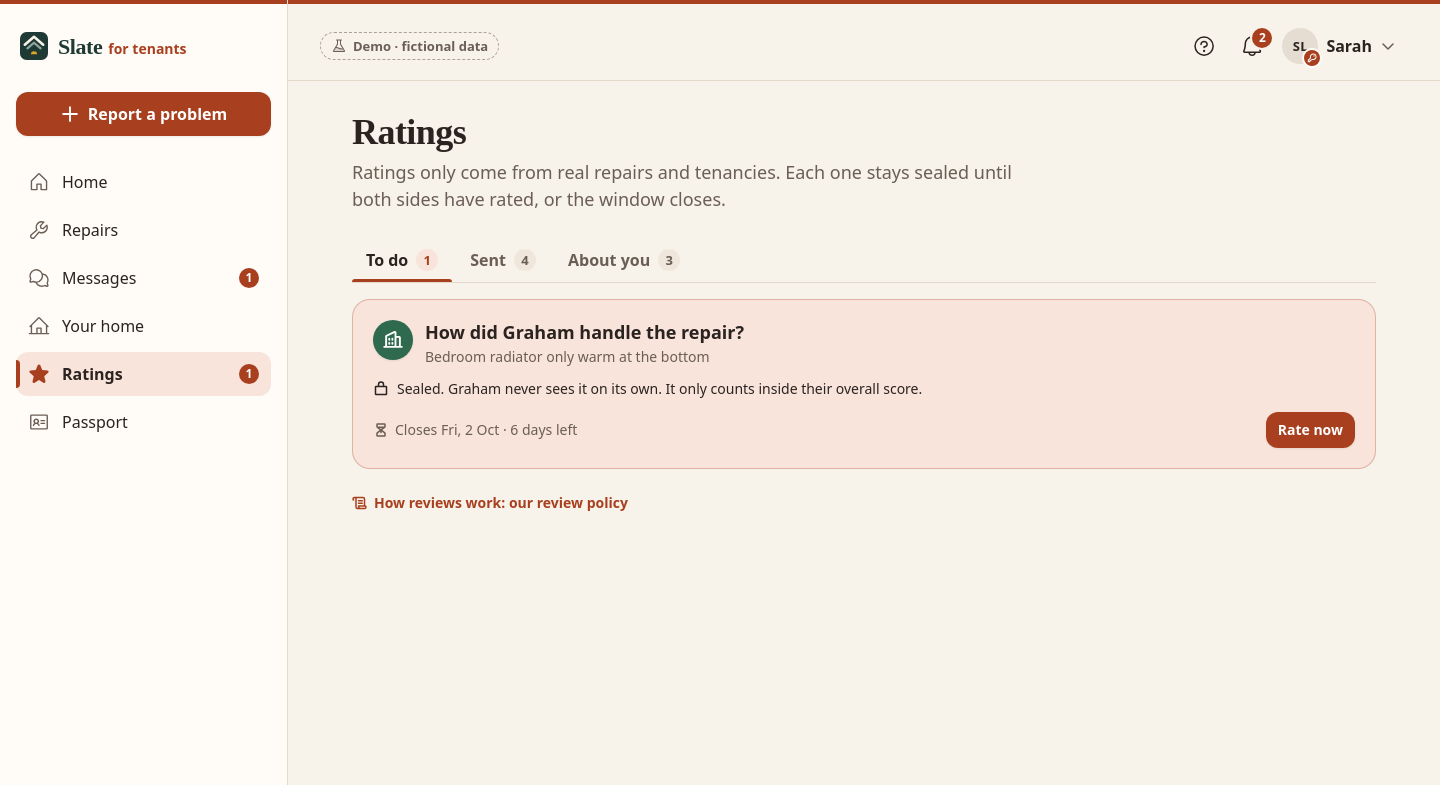
it: the ratings page › shows sealed ratings with their reveal date, and explains who sees ratings about you
This screenshot has width=1440, height=785.
Click the tab "Sent 4": (503, 260) 456,238 -> 550,282
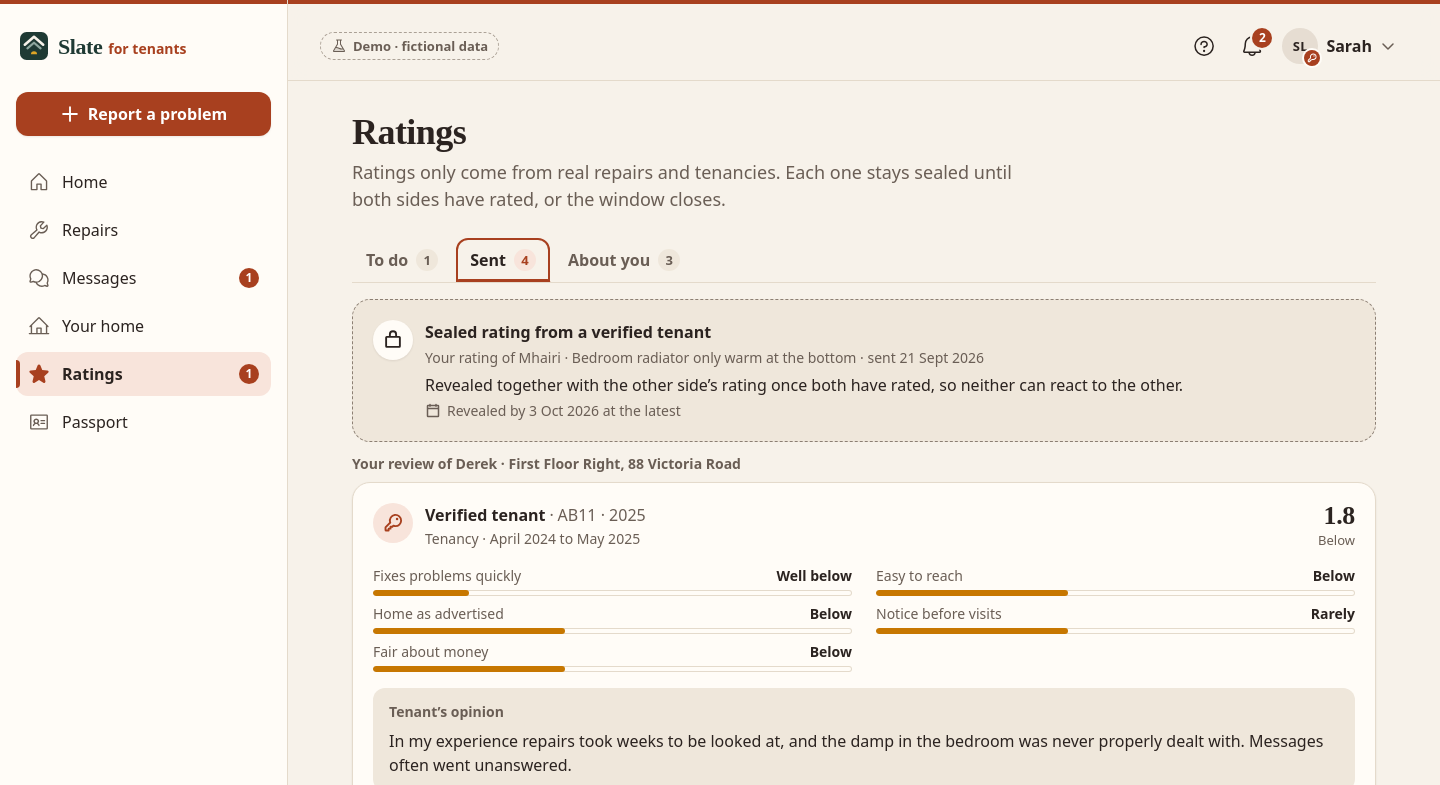
Expected: the text "Your rating of Mhairi" is shown, 425,348 -> 984,367
Expected: the text "Revealed by 3 Oct 2026 at the latest" is shown, 425,401 -> 681,420
Click the tab "About you 3": (624, 260) 554,238 -> 694,282
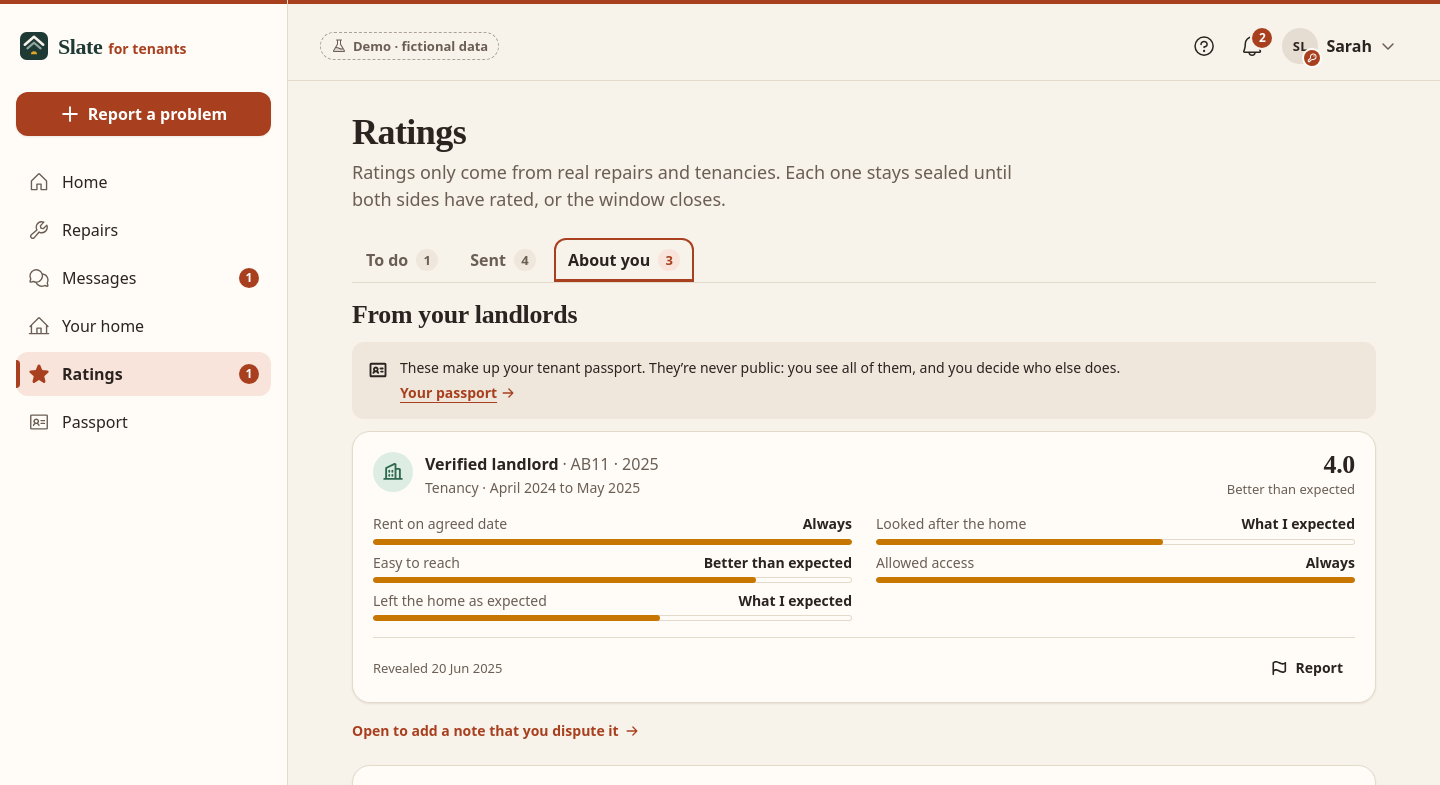
Expected: the text "These make up your tenant passport" is shown, 400,358 -> 1120,377
Expected: the button "Report" is shown, 1258,650 -> 1355,686
